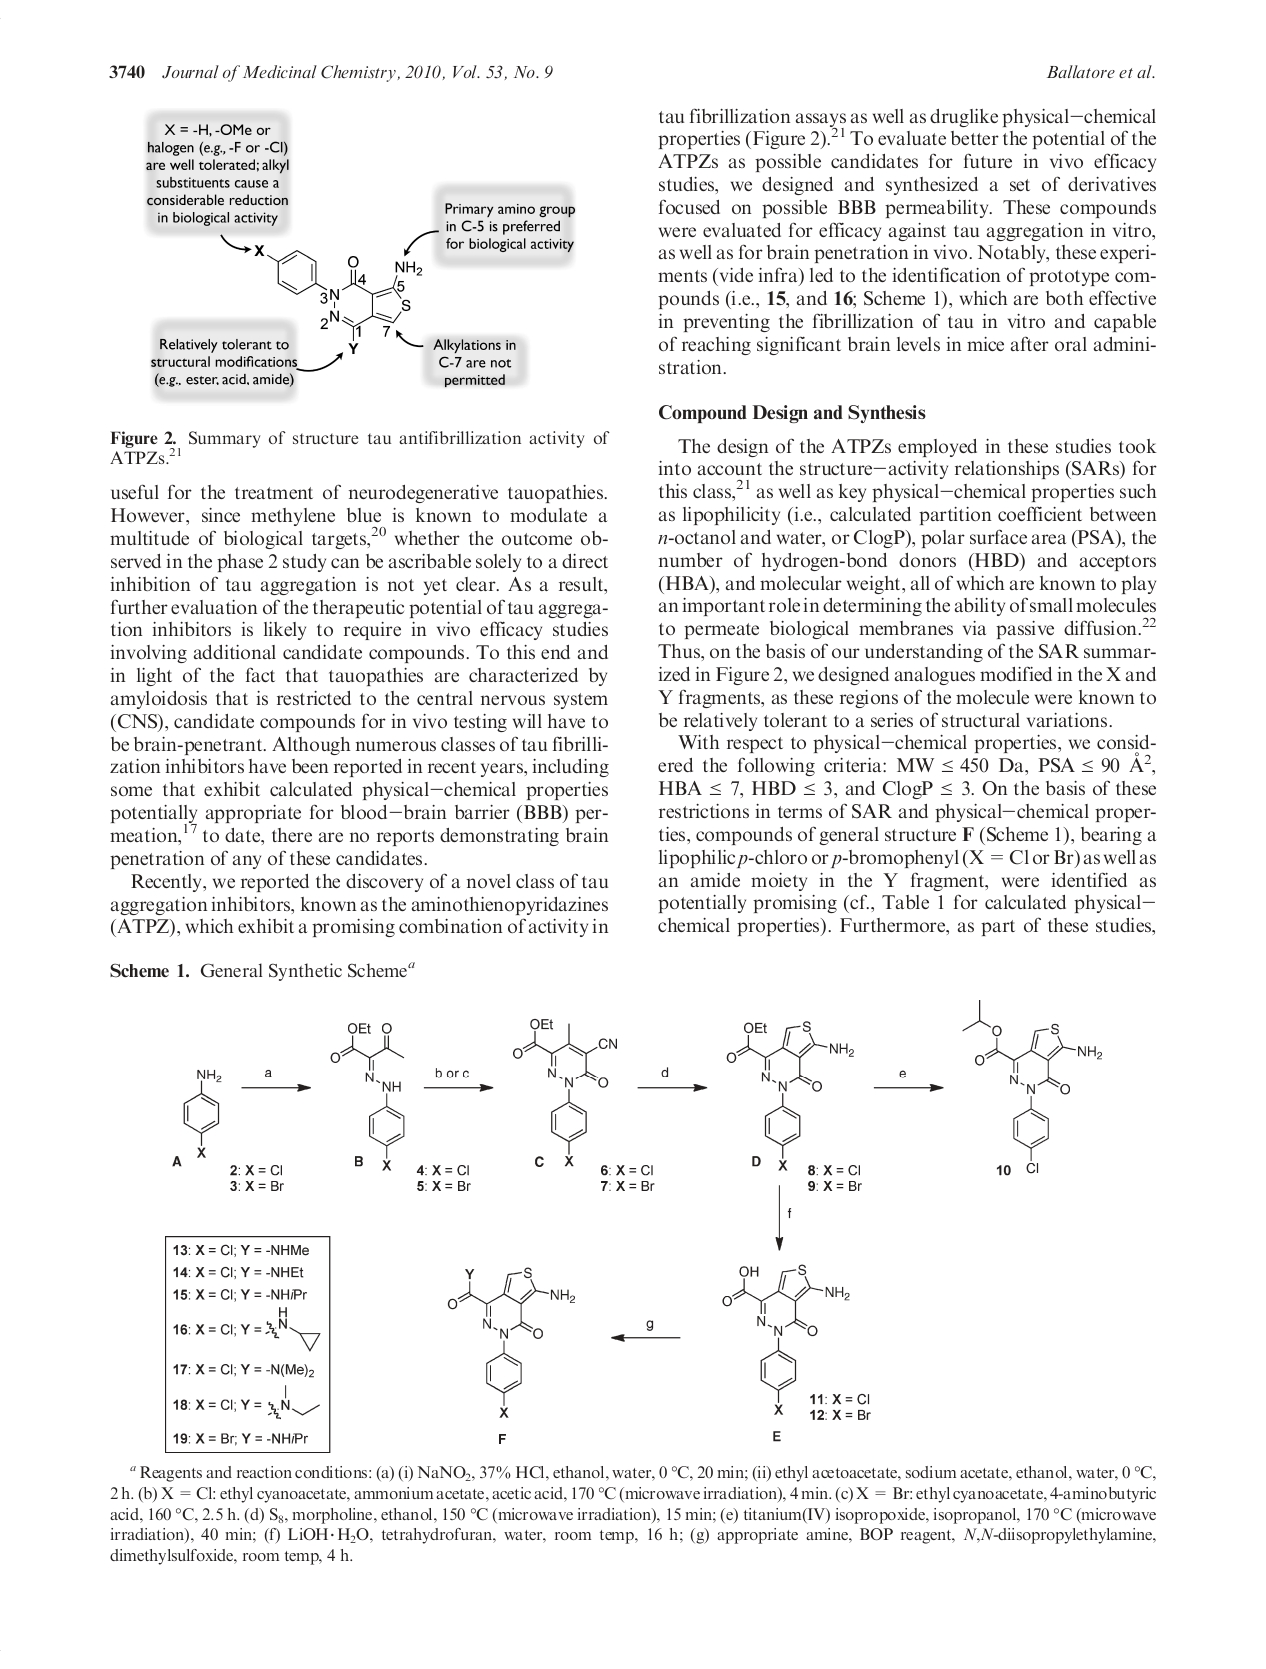exist_molecular: (959, 995, 1104, 1182), (715, 1258, 856, 1426), (442, 1251, 578, 1419), (721, 1012, 858, 1169), (513, 1008, 614, 1172), (263, 245, 420, 348), (328, 1015, 414, 1176), (177, 1060, 231, 1158)
